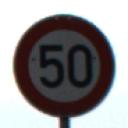speed_limit_50: (7, 10, 122, 122)
